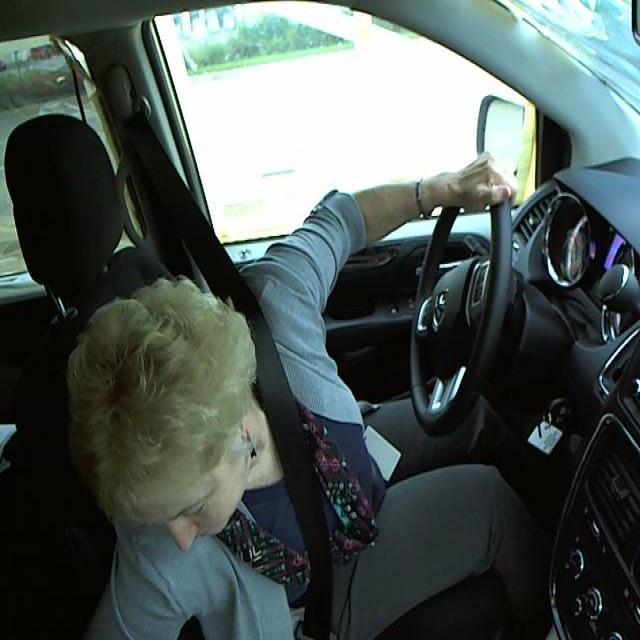seatbelt: (230, 277, 355, 639)
